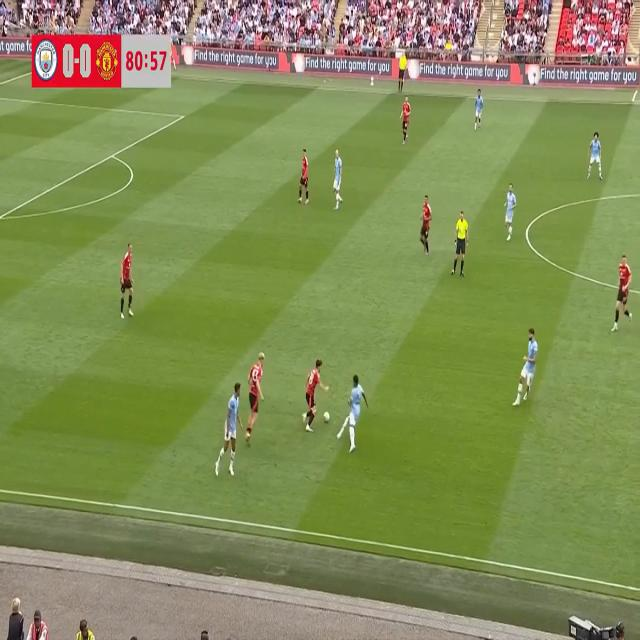ball: (321, 408, 331, 429)
players: (210, 374, 247, 484), (244, 345, 278, 453), (336, 362, 368, 456), (300, 351, 330, 441), (514, 323, 541, 413), (607, 252, 634, 336), (112, 232, 135, 327), (290, 142, 316, 213), (495, 181, 522, 248), (323, 141, 346, 211), (416, 194, 438, 254), (396, 91, 414, 153), (585, 132, 606, 184), (472, 81, 488, 139)
refree: (448, 201, 474, 282), (394, 43, 410, 96)
